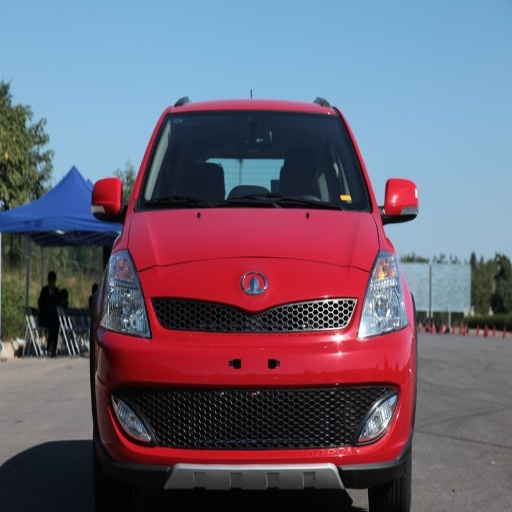front_bumper: (98, 264, 410, 457)
front_right_light: (99, 249, 149, 337)
hood: (127, 209, 380, 309)
left_mirror: (382, 178, 419, 224)
trunk: (171, 329, 251, 387), (274, 345, 334, 385)
